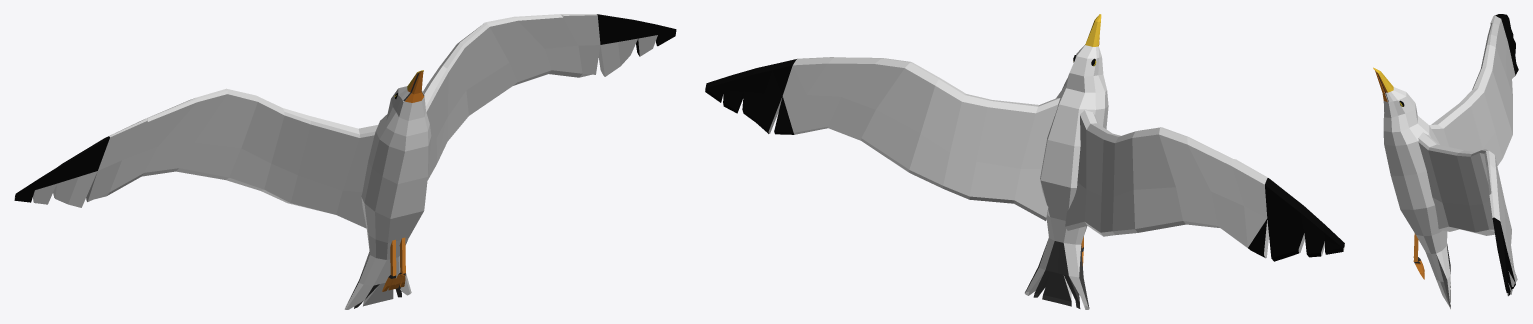
The model's file is BirdModel.fbx.
3 renders of one model, left to right at view 1: azimuth 30°, elevation 25°; view 2: azimuth 150°, elevation 25°; view 3: azimuth 270°, elevation 25°, orthographic. The views are drawn at different scales.
Visible parts, largest first — view 1: Cube.002, Cube.003, Cube, Cube.001; view 2: Cube.003, Cube.002, Cube; view 3: Cube.003, Cube, Cube.002, Cube.001.
Boxes of the visible parts, left/top/right/bottom form: Cube.002: left=14, top=88, right=378, bottom=228; Cube.003: left=423, top=14, right=676, bottom=179; Cube: left=344, top=70, right=431, bottom=309; Cube.001: left=382, top=237, right=405, bottom=291; Cube.003: left=705, top=57, right=1060, bottom=220; Cube.002: left=1065, top=110, right=1344, bottom=261; Cube: left=1024, top=14, right=1108, bottom=309; Cube.003: left=1418, top=132, right=1517, bottom=296; Cube: left=1373, top=67, right=1450, bottom=309; Cube.002: left=1429, top=14, right=1518, bottom=165; Cube.001: left=1413, top=233, right=1424, bottom=279.
Bounding box in the file's own units: 1920 × 739 × 424.
